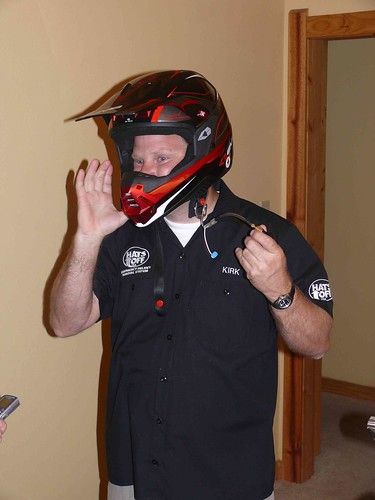helmet: (73, 74, 247, 219)
